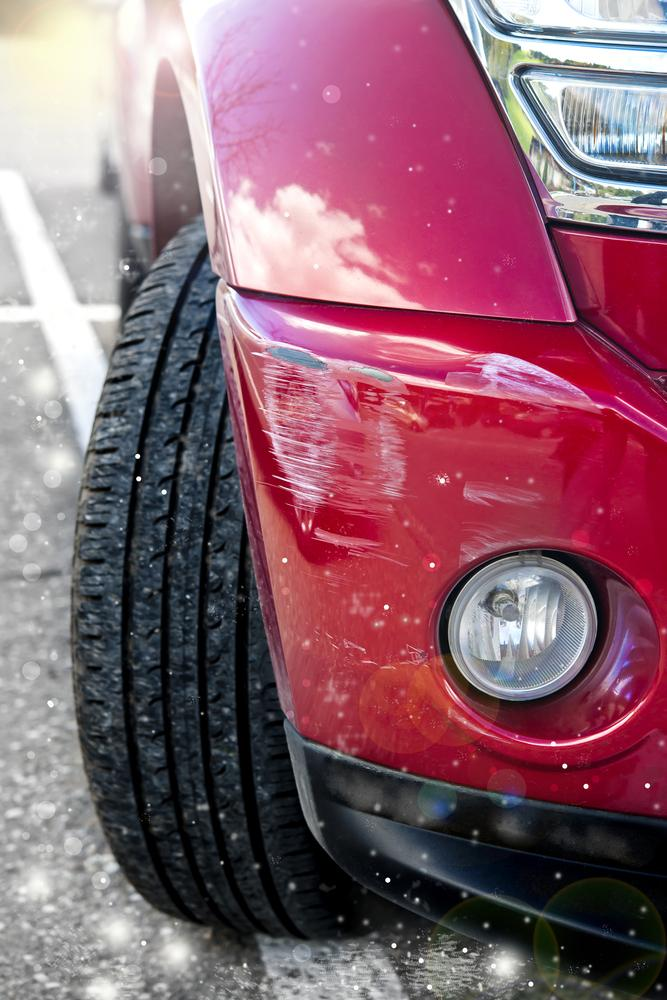scratch: (248, 340, 414, 577), (445, 348, 591, 570)
